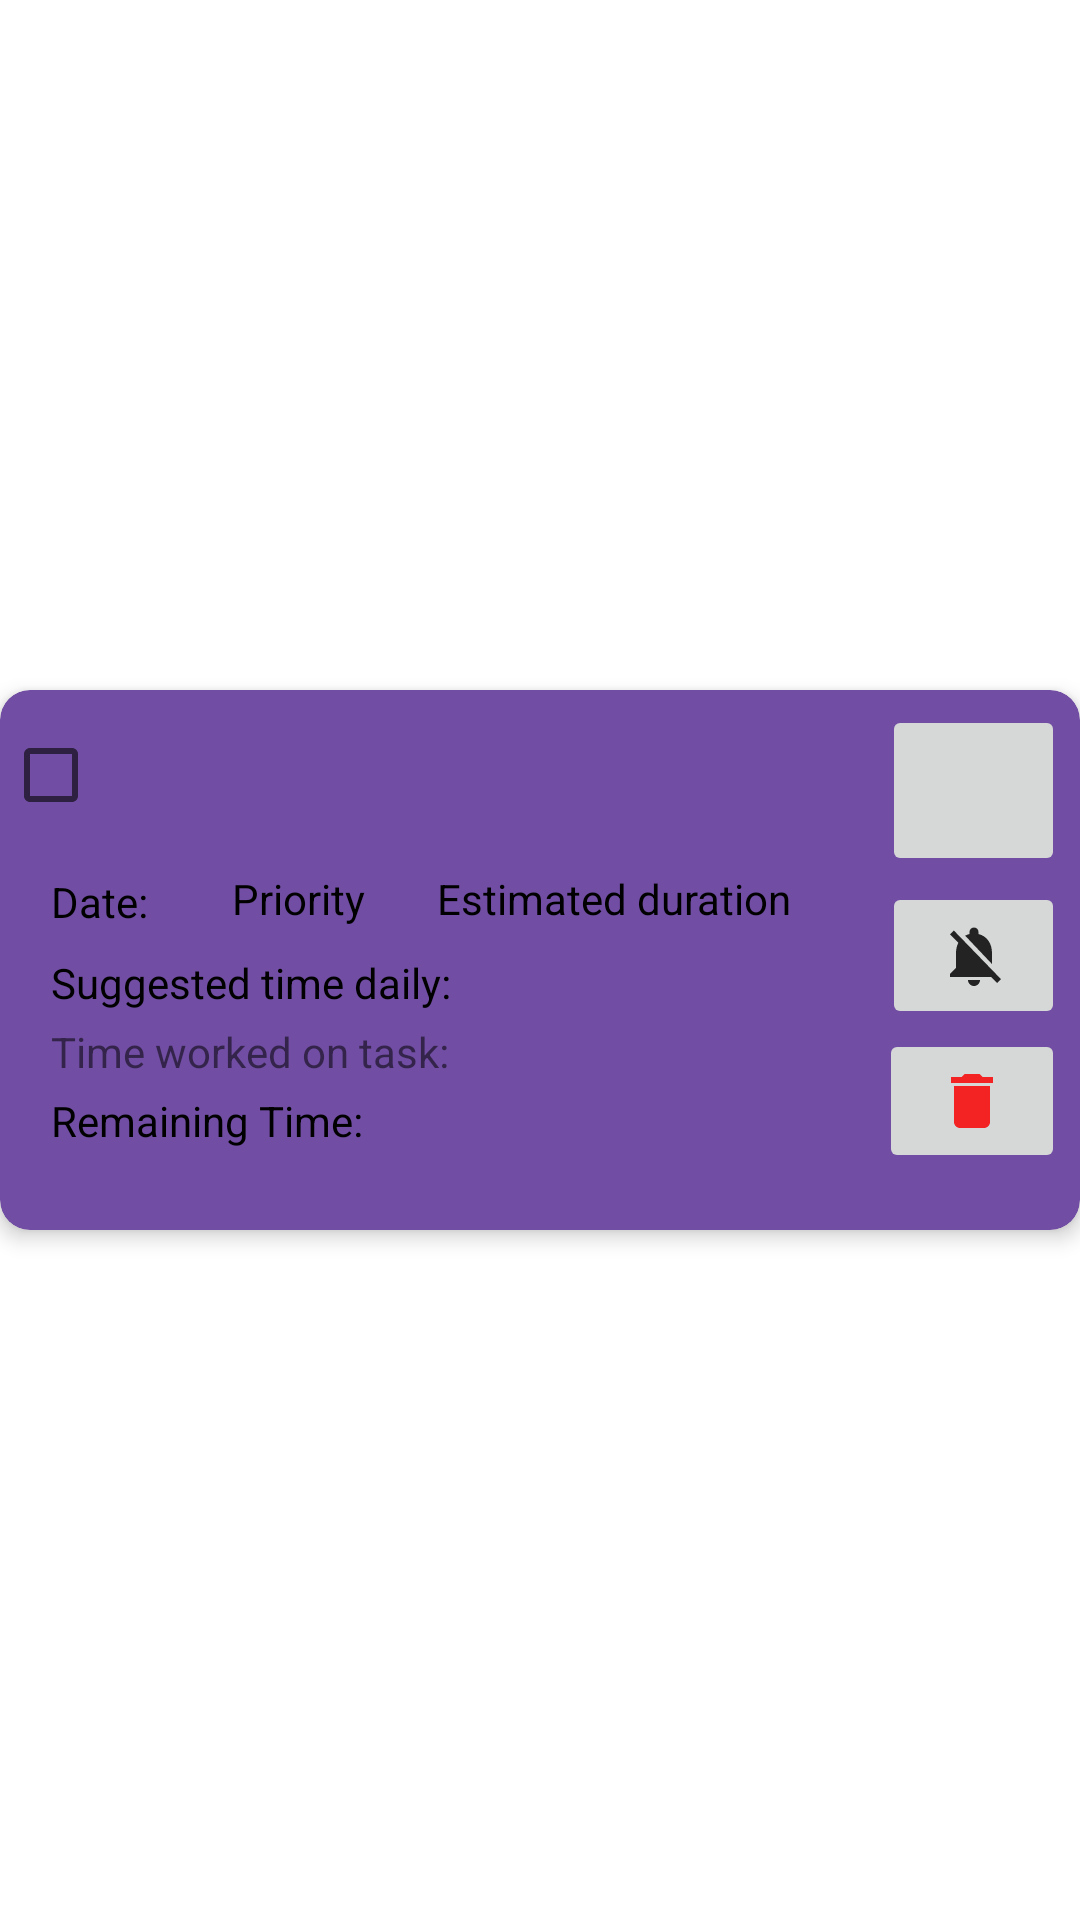

Icon click points for this 1080px×1920px phone screenshot, format (x,y):
Delete Button: (972,1101)
